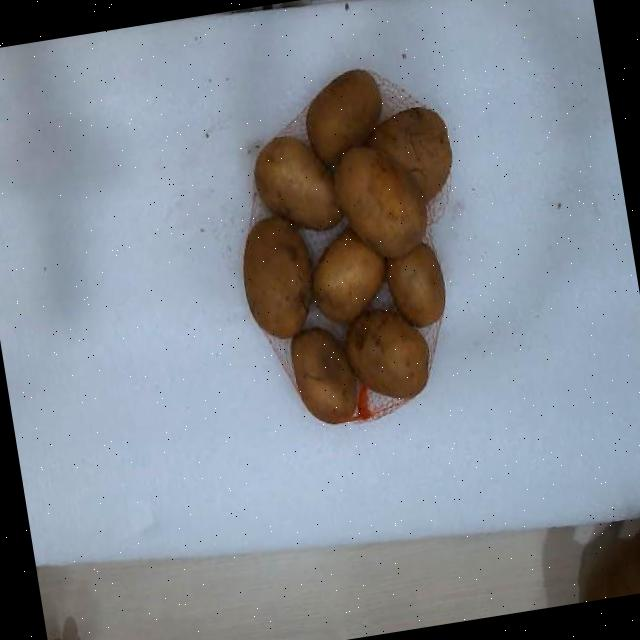potato: (333, 146, 426, 258), (242, 216, 310, 338), (254, 137, 341, 230), (367, 107, 449, 202), (345, 311, 428, 399), (307, 69, 381, 163), (312, 229, 385, 321), (290, 329, 356, 422), (385, 245, 445, 327)
